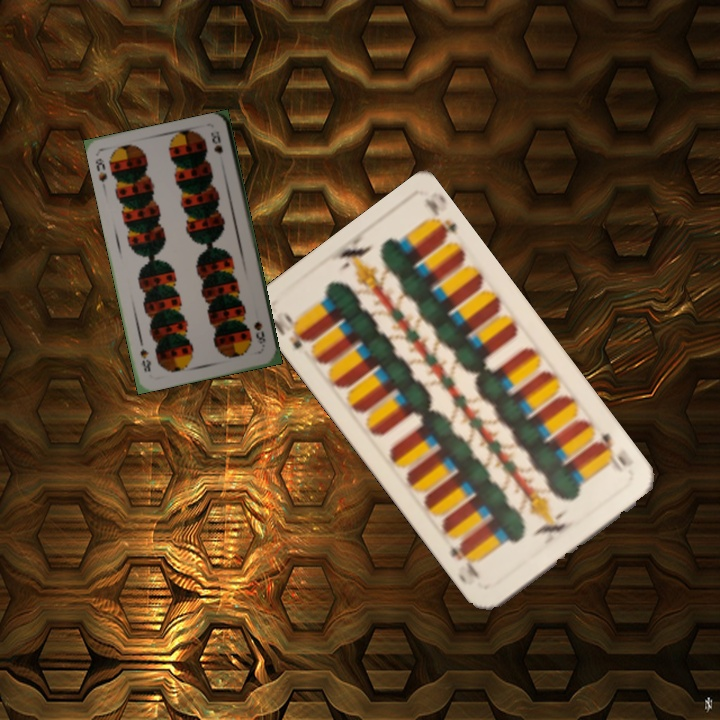E10: (266, 310, 315, 352), (590, 428, 629, 475)
S8: (91, 154, 110, 185), (250, 318, 268, 350)
